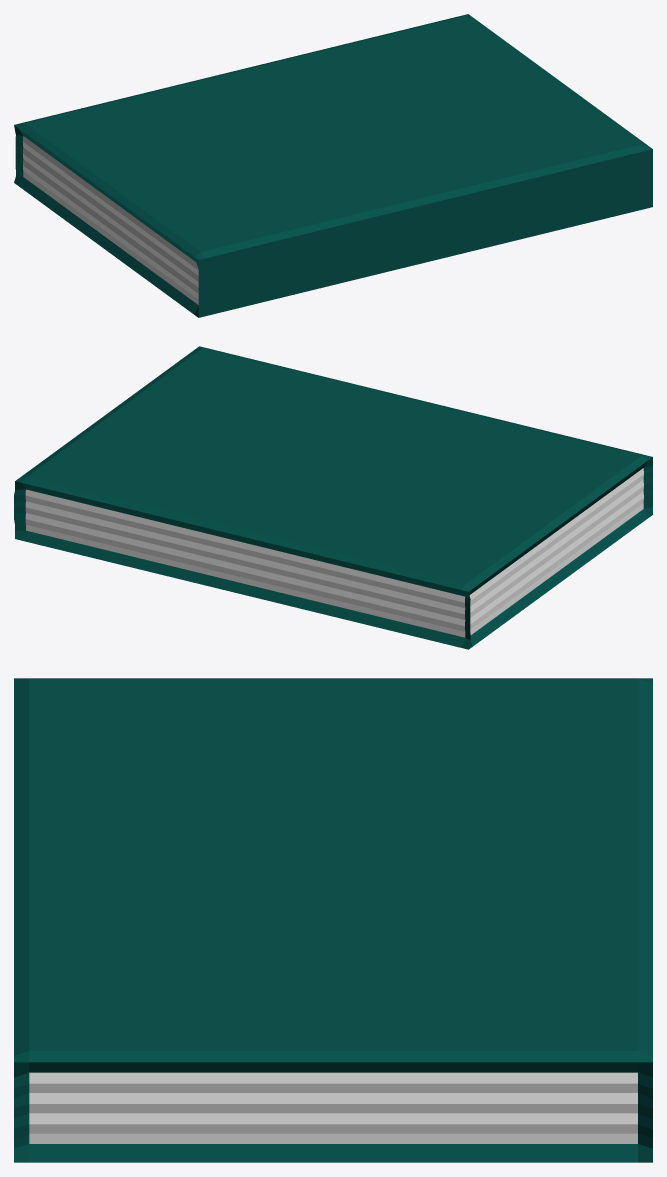
File: Book.fbx
The picture shows the model from 3 angles, top to bottom: view 1: azimuth 30°, elevation 25°; view 2: azimuth 150°, elevation 25°; view 3: azimuth 270°, elevation 25°; orthographic projection. The views are drawn at different scales.
Parts seen in each view (by area): view 1: Cube; view 2: Cube; view 3: Cube.
Boxes of the visible parts, left/top/right/bottom form: Cube: left=14, top=14, right=652, bottom=317; Cube: left=14, top=346, right=652, bottom=649; Cube: left=14, top=678, right=652, bottom=1162.
Size of the model in its own units: 136 by 17.42 by 95.58.
